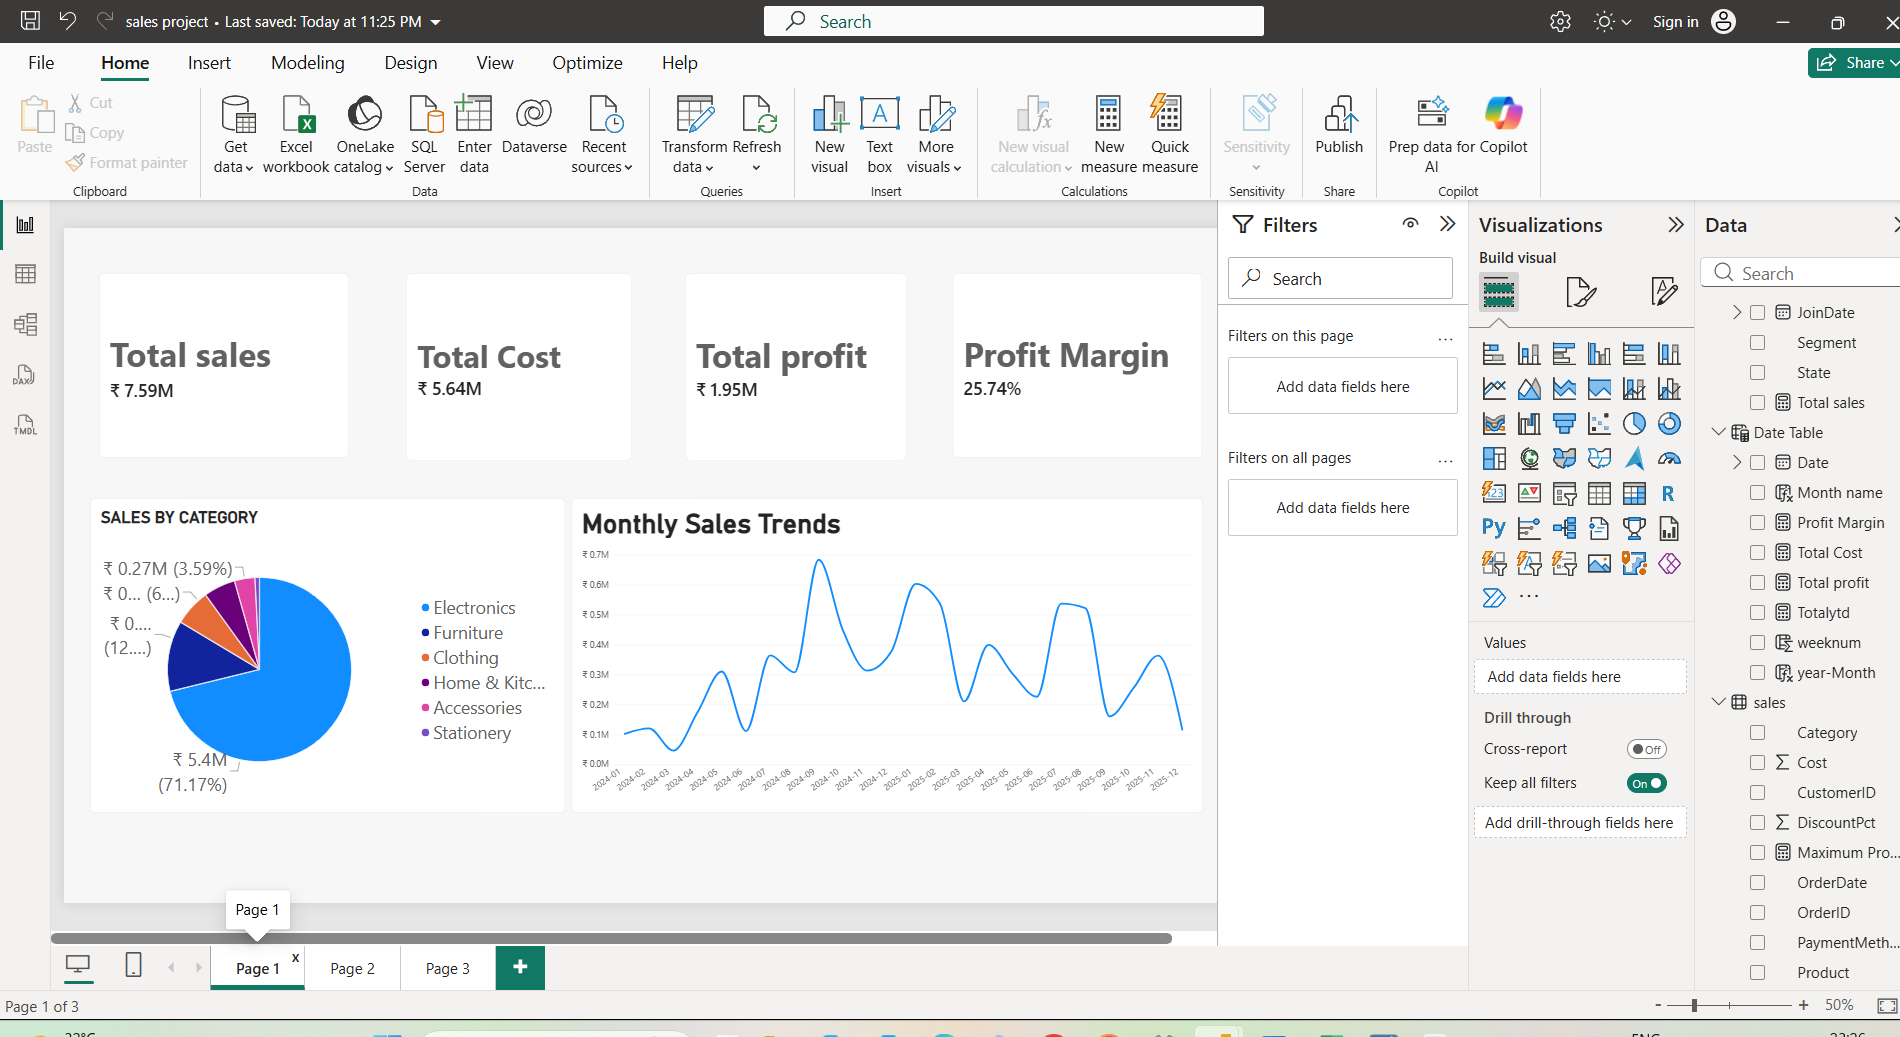

Layout of this report page (visuals, bound fields, positions):
{"tool":"powerbi","page":{"name":"Page 1","canvas":[1920,1080],"ordinal":0},"visuals":[{"type":"cardVisual","fields":{"Data":["customers.Total sales"]},"box":[55.6,72,399.3,296.4],"z":0},{"type":"cardVisual","fields":{"Data":["Date Table.Total Cost"]},"box":[547.5,72,360.2,300.5],"z":1},{"type":"cardVisual","fields":{"Data":["Date Table.Total profit"]},"box":[994.2,72,354,300.5],"z":2},{"type":"cardVisual","fields":{"Data":["Date Table.Profit Margin"]},"box":[1422.3,72,399,296],"z":3},{"type":"pieChart","title":"SALES BY CATEGORY","fields":{"Category":["sales.Category"],"Y":["Sum(sales.Sales)"]},"box":[42,432,760,504],"z":4},{"type":"lineChart","title":"Monthly Sales Trends","fields":{"Category":["Date Table.year-Month"],"Y":["Sum(sales.Sales)"]},"box":[812,432,1010,504],"z":5}]}

Visuals, with their boxes on the page's 1920x1080 design canvas (x1, y1, x2, y2). These are canvas units, not pixel positions in the 1900x1037 screenshot, which may show the page scaled, cropped or inside an application window:
cardVisual - customers.Total sales: 56, 72, 455, 368
cardVisual - Date Table.Total Cost: 548, 72, 908, 372
cardVisual - Date Table.Total profit: 994, 72, 1348, 372
cardVisual - Date Table.Profit Margin: 1422, 72, 1821, 368
"SALES BY CATEGORY" pieChart: 42, 432, 802, 936
"Monthly Sales Trends" lineChart: 812, 432, 1822, 936
